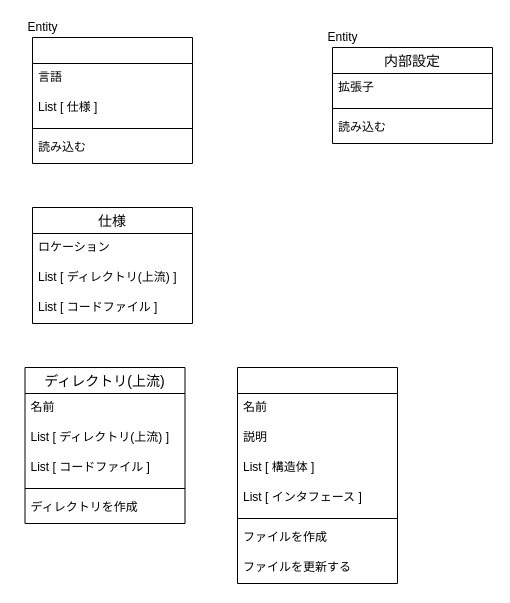
The diagram is 510 pixels wide and 603 high, and some of its shapes have lost their labels. The shapes that lost their labels are listed below. From the top down, each one's box as (x1, y1, x2, y2) in pixels, then its label:
(32, 36, 192, 164): 宣言ファイル
(236, 366, 398, 584): コードファイル
